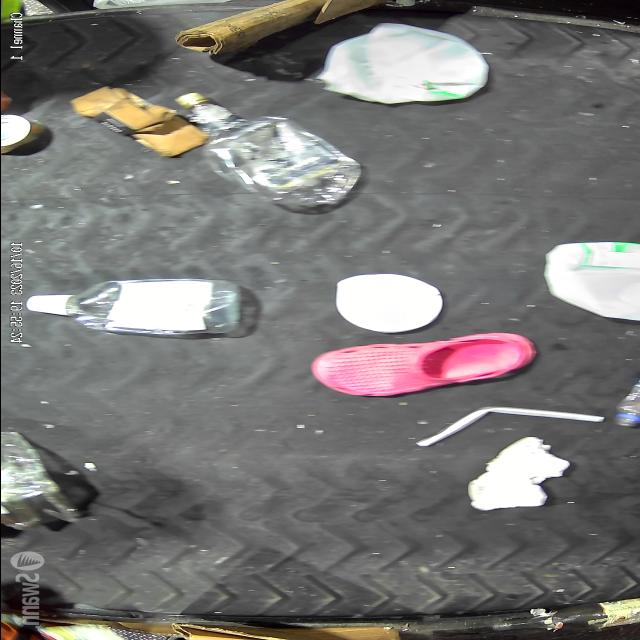can: (0, 107, 35, 154)
milk_jug: (310, 20, 488, 104), (542, 239, 640, 323)
plastic_bottle: (165, 92, 362, 222), (18, 278, 256, 328)
